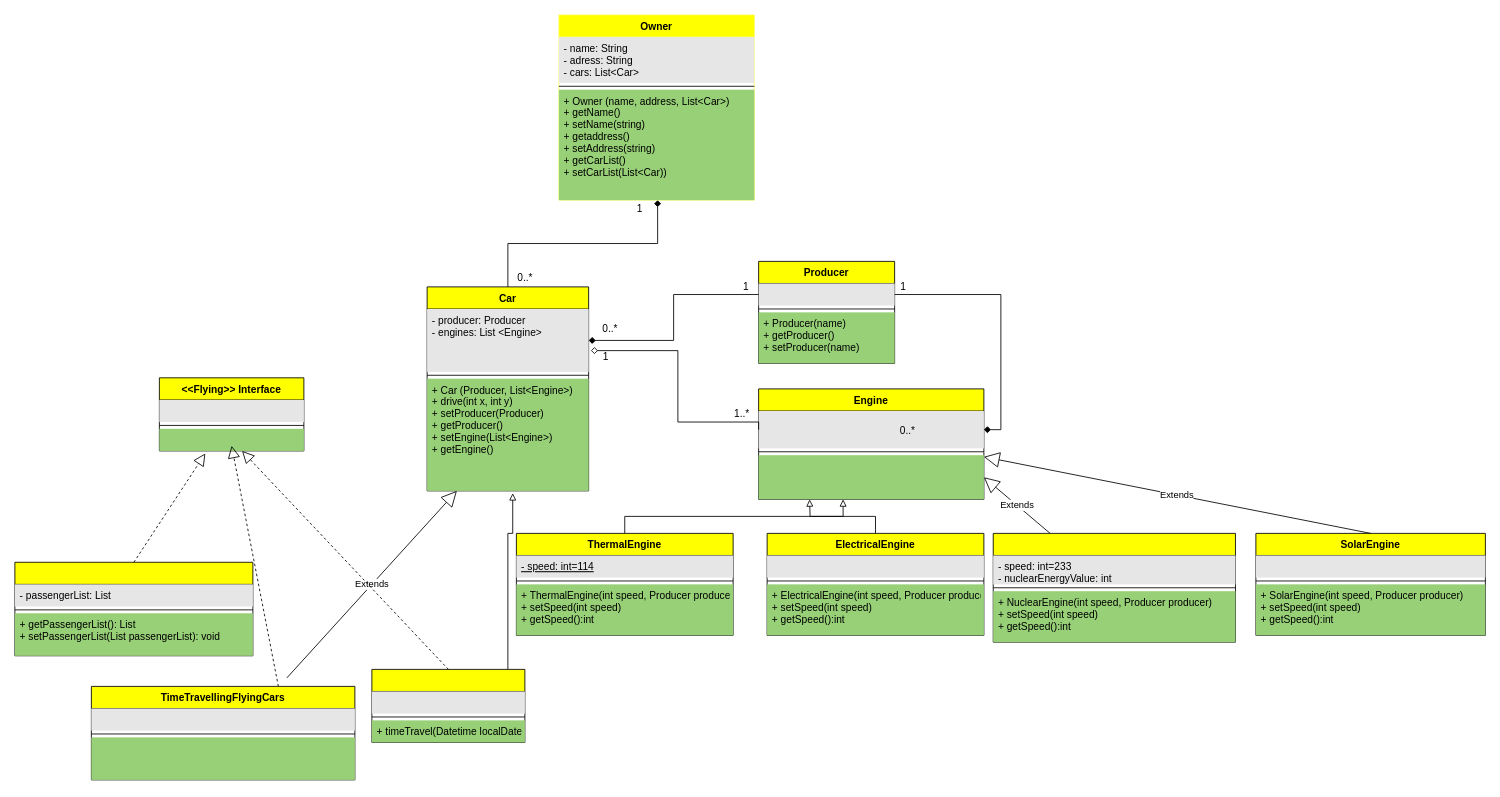
This 1500x797 diagram has some shape labels left out. The shapes that lost their labels are listed below. From the top down, each one's box as (x1, y1, x2, y2) in pixels, then its label:
(758, 283, 894, 305): - name: String
(159, 428, 303, 450): drive(int x,int y, int z):void
(758, 411, 983, 448): - producer: Producer - speed: int
(758, 455, 983, 499): + Engine(int speed, Producer producer) + setSpeed(int speed) + getSpeed():int
(767, 555, 983, 577): - speed: int=180
(1255, 555, 1485, 577): - speed: int=90
(992, 533, 1235, 642): Nuclear Engines
(14, 561, 253, 656): Plane
(91, 708, 354, 730): - localDateTime: Date
(371, 669, 525, 742): FlyingCar
(91, 737, 354, 779): + setLocalDateTime(Date localDateTime): void + getLocalDateTime(): Date
